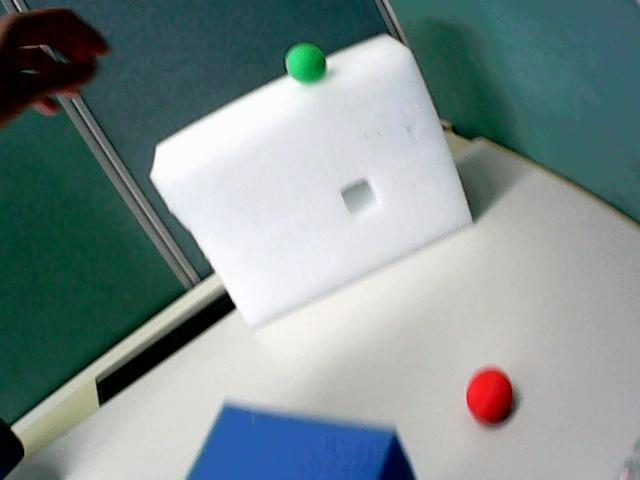blue_block: (189, 405, 413, 479), (0, 420, 24, 478)
